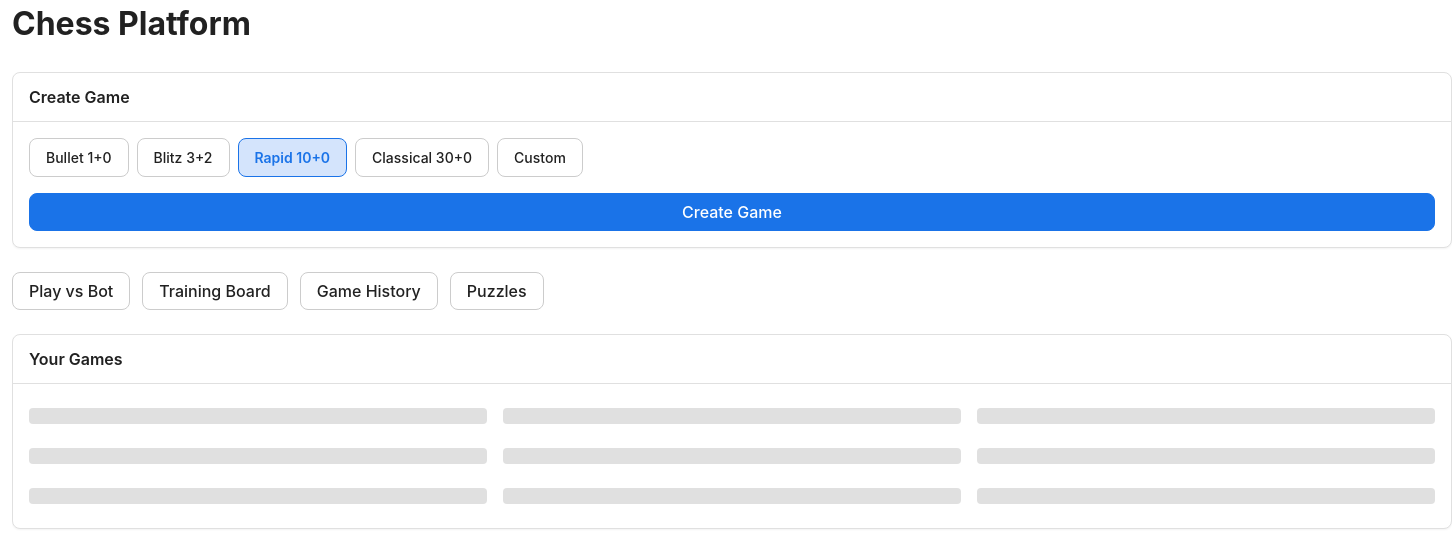
DashboardPage › switches to waiting screen after game creation
The image size is (1452, 546).
Expected: the form with test id "create-game-form" is shown, [29,138,1435,231]
Click the button "Create Game" at coordinates (732, 212), box [29,193,1435,231]
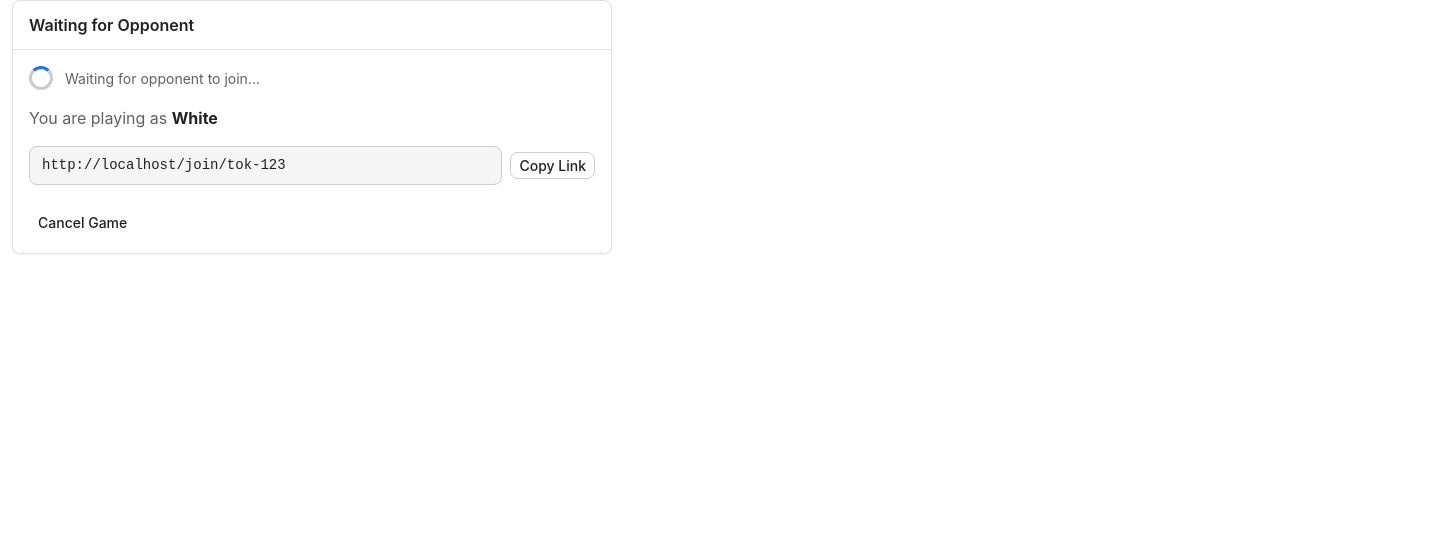
Result: the element with test id "waiting-screen" is shown at [29,66,595,236]
Result: the text "You are playing as white" is shown at [29,108,218,128]
